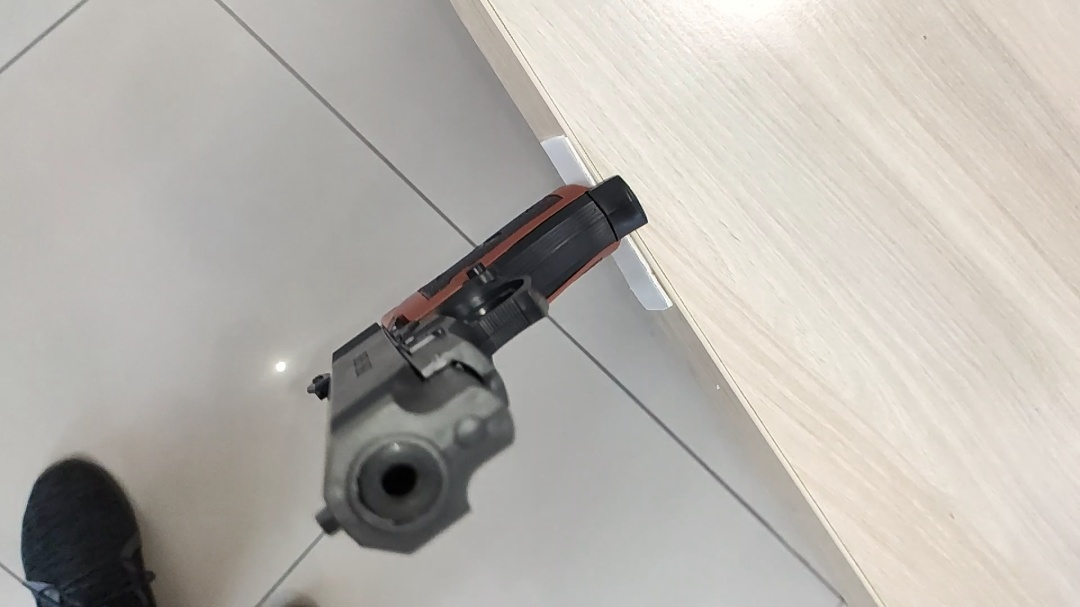gun: (604, 272, 649, 296)
